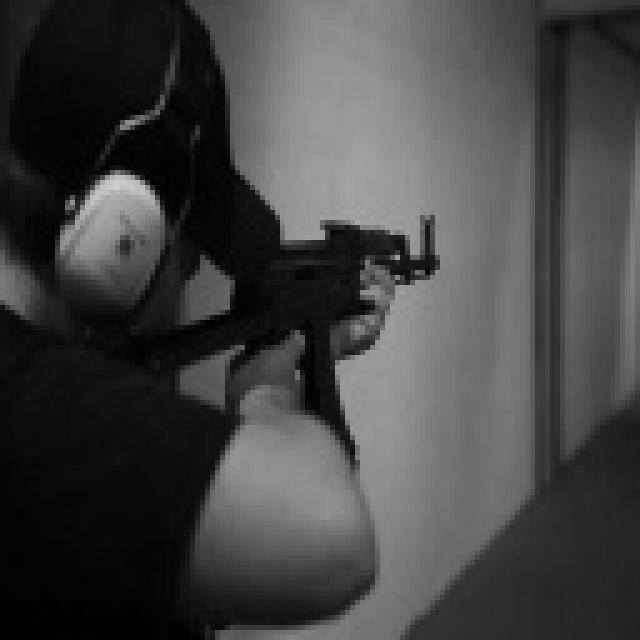Rifle: (96, 187, 470, 478)
